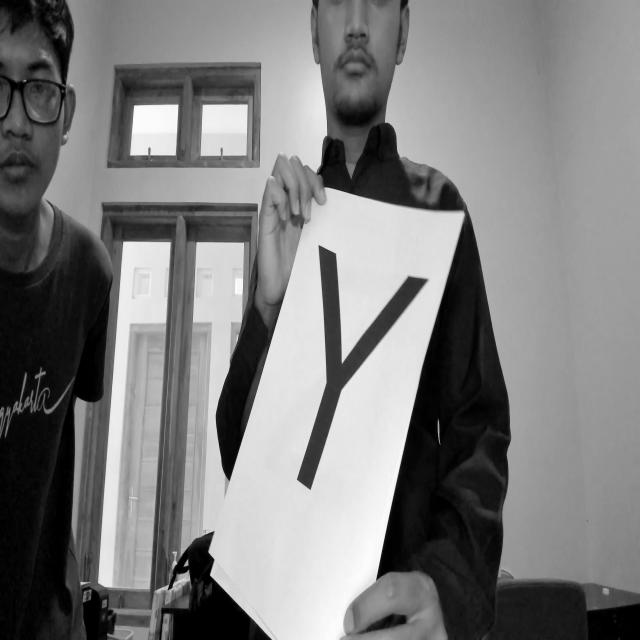y: (290, 224, 430, 518)
